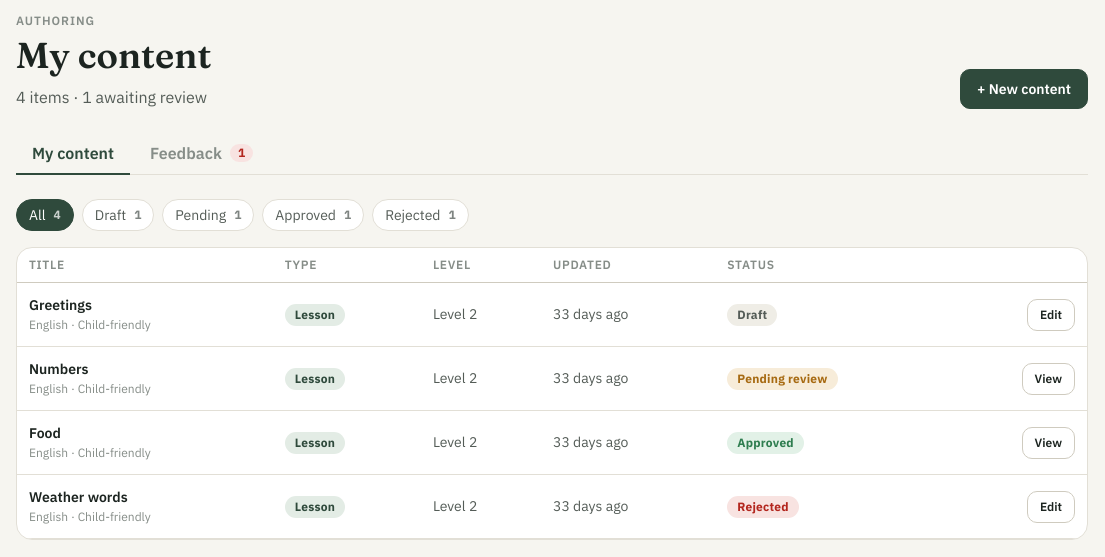
it: AuthorDashboardScreen › switching back to "My Content" restores the table and hides feedback
The image size is (1105, 557).
What coordinates should you click on to do the following:
click the tab with test id "tab-feedback"
I would click on:
 (202, 154)
Its box is [134, 133, 269, 175].
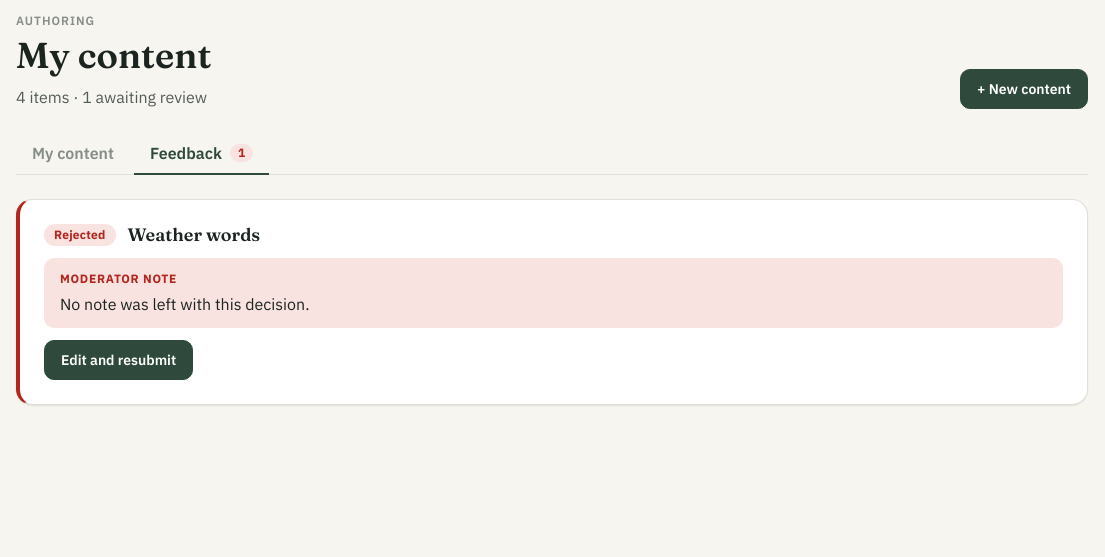
What coordinates should you click on to do the following:
click the tab with test id "tab-content"
I would click on:
 (73, 154)
Its box is [16, 133, 130, 175].
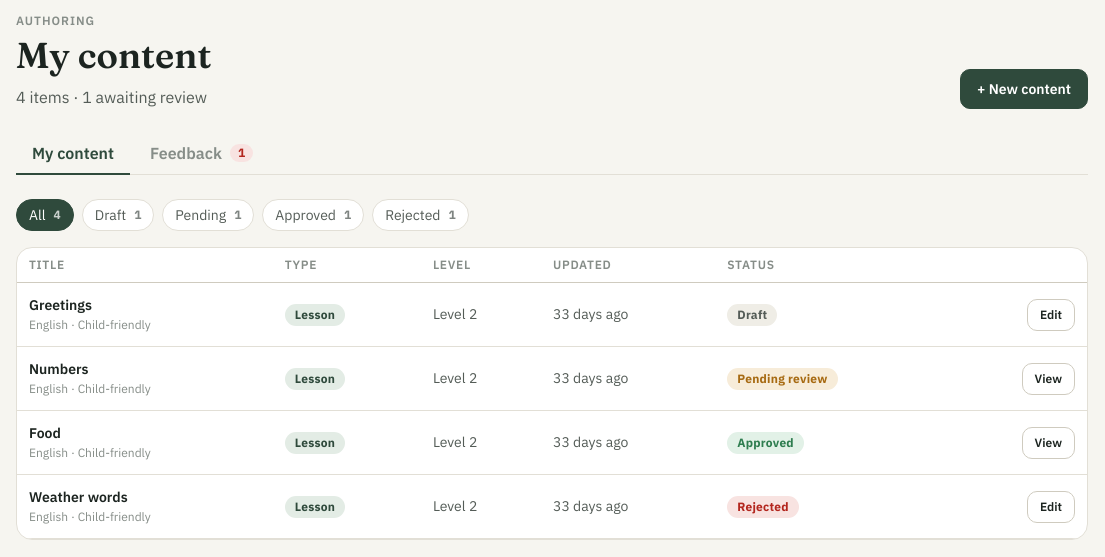
Expected: the element with test id "content-tab" is shown, [16, 199, 1088, 540]
